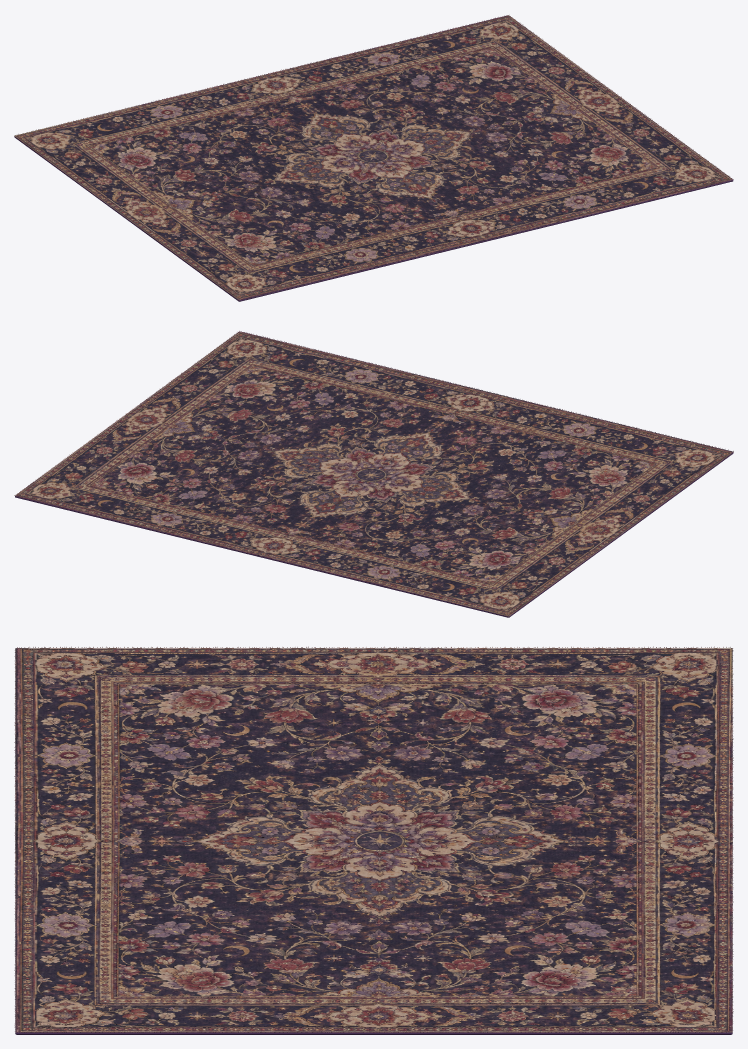
The model's file is moonroom-persian-floral-pass01.glb.
3 views of the same model, one above another, from view 1: azimuth 30°, elevation 25°; view 2: azimuth 150°, elevation 25°; view 3: azimuth 270°, elevation 25° (orthographic). The views are drawn at different scales.
Parts seen in each view (by area): view 1: RUG_Persian_Floral_Woven_PASS01, RUG_WovenBacking_25mm; view 2: RUG_Persian_Floral_Woven_PASS01, RUG_WovenBacking_25mm; view 3: RUG_Persian_Floral_Woven_PASS01, RUG_WovenBacking_25mm.
Part boxes in pixels (bbox=[...]): RUG_Persian_Floral_Woven_PASS01: bbox=[14, 15, 733, 300]; RUG_WovenBacking_25mm: bbox=[14, 136, 733, 301]; RUG_Persian_Floral_Woven_PASS01: bbox=[14, 331, 733, 616]; RUG_WovenBacking_25mm: bbox=[15, 452, 733, 617]; RUG_Persian_Floral_Woven_PASS01: bbox=[14, 646, 733, 1032]; RUG_WovenBacking_25mm: bbox=[15, 1032, 732, 1034].
Size of the model in its own units: 8.53 by 0.0425 by 6.73.
2 materials, 1 textured.
